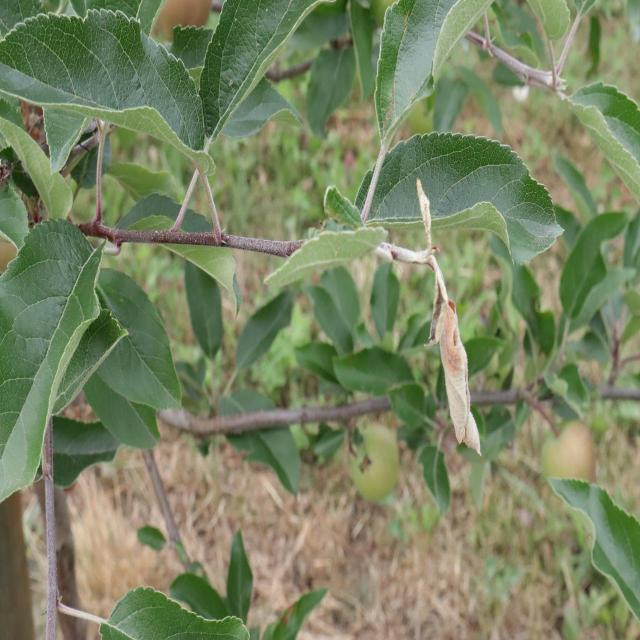-FireBlight-: (410, 241, 490, 456)
